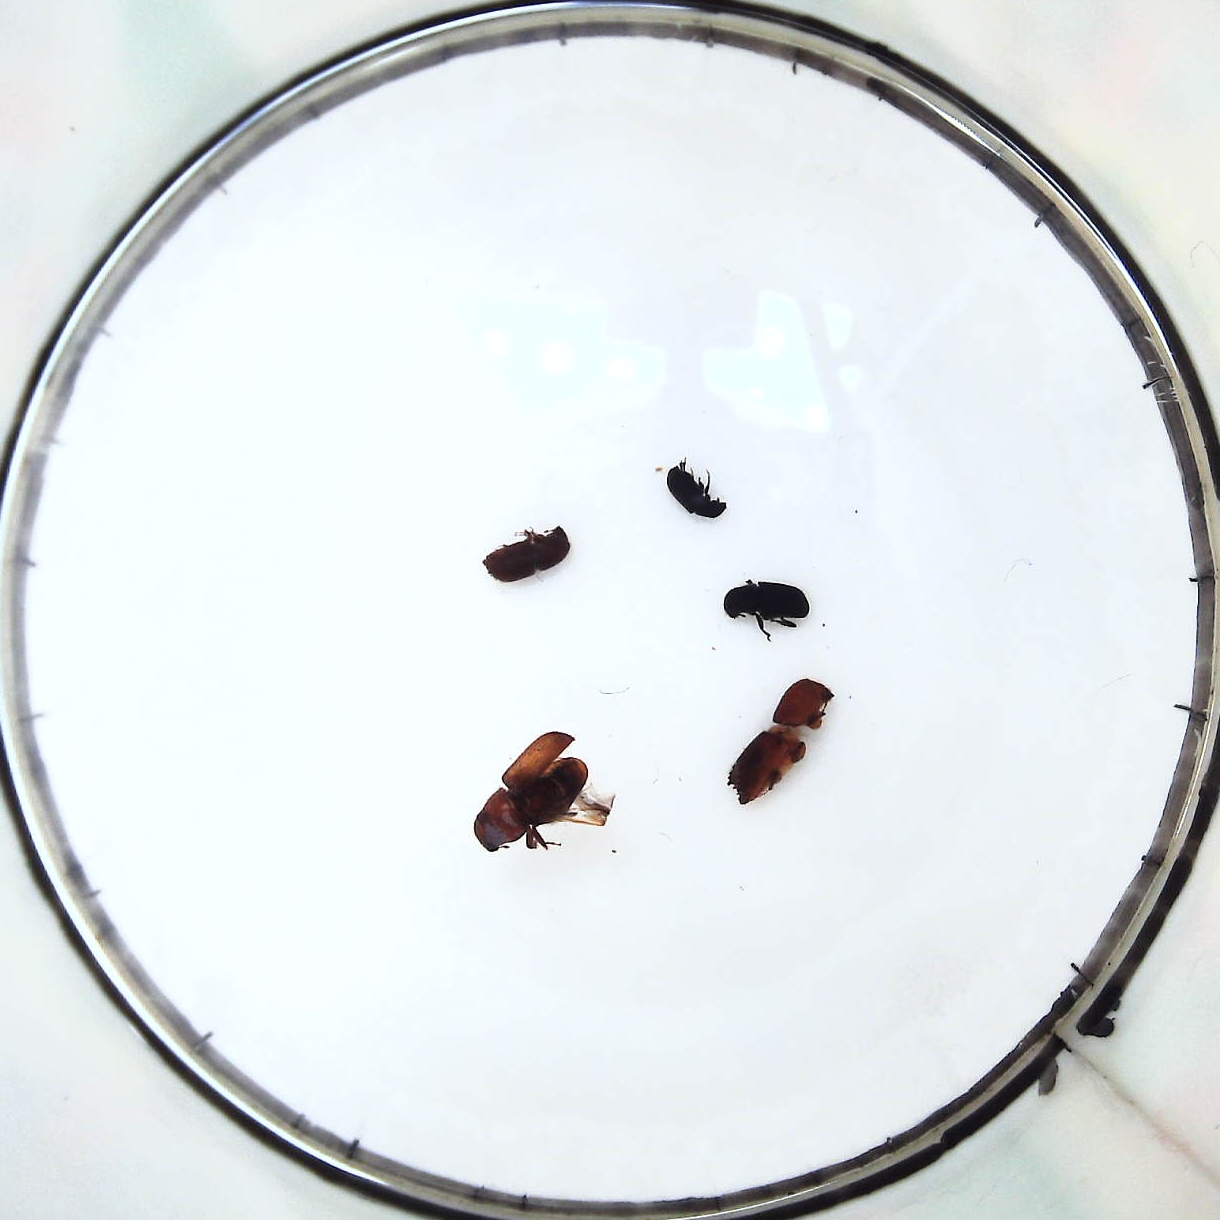Boerner: (728, 671, 830, 804)
Leconte: (469, 728, 611, 862)
Linnaeus: (489, 516, 572, 594)
armandi: (719, 572, 816, 636)
coleoptera: (667, 455, 723, 533)
